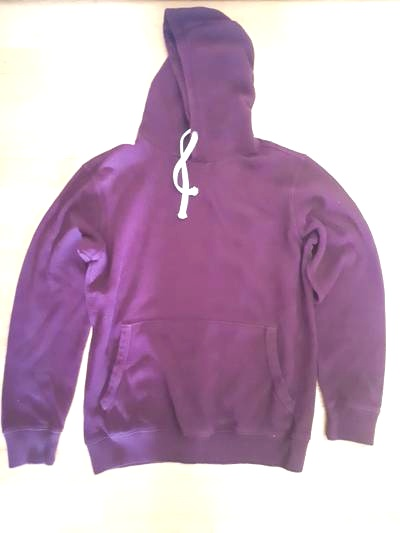Hoodie: (8, 12, 395, 470)
